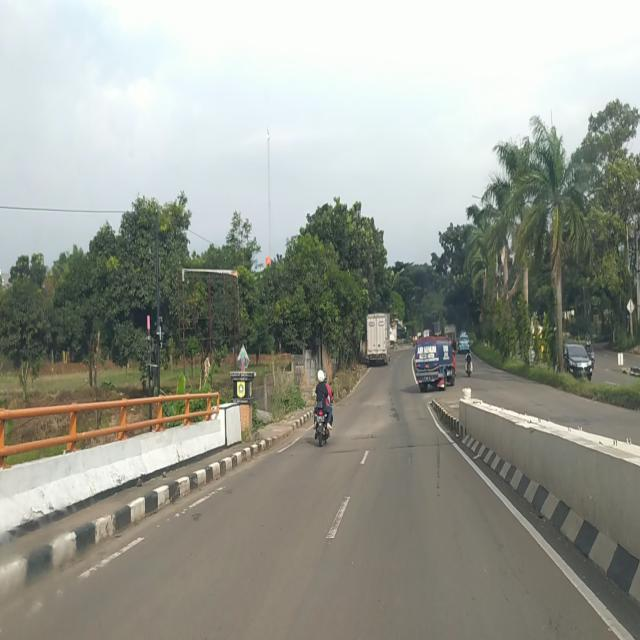Sewer Cover: (321, 444, 434, 453), (352, 435, 380, 440)
